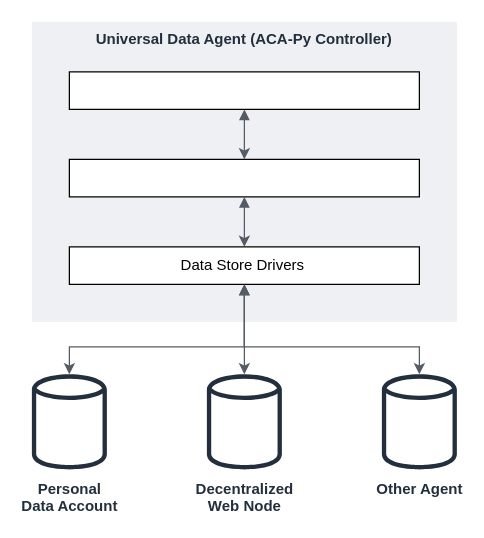
This 484x538 diagram has some shape labels left out. Here are the shapes that lost their labels. From the top down, the box of each, then its label:
(68, 71, 419, 109): Data Access Control
(68, 158, 419, 197): Data Mapping
